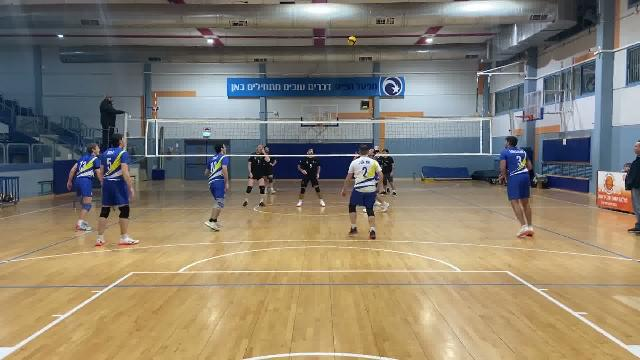ball: (345, 35, 358, 47)
